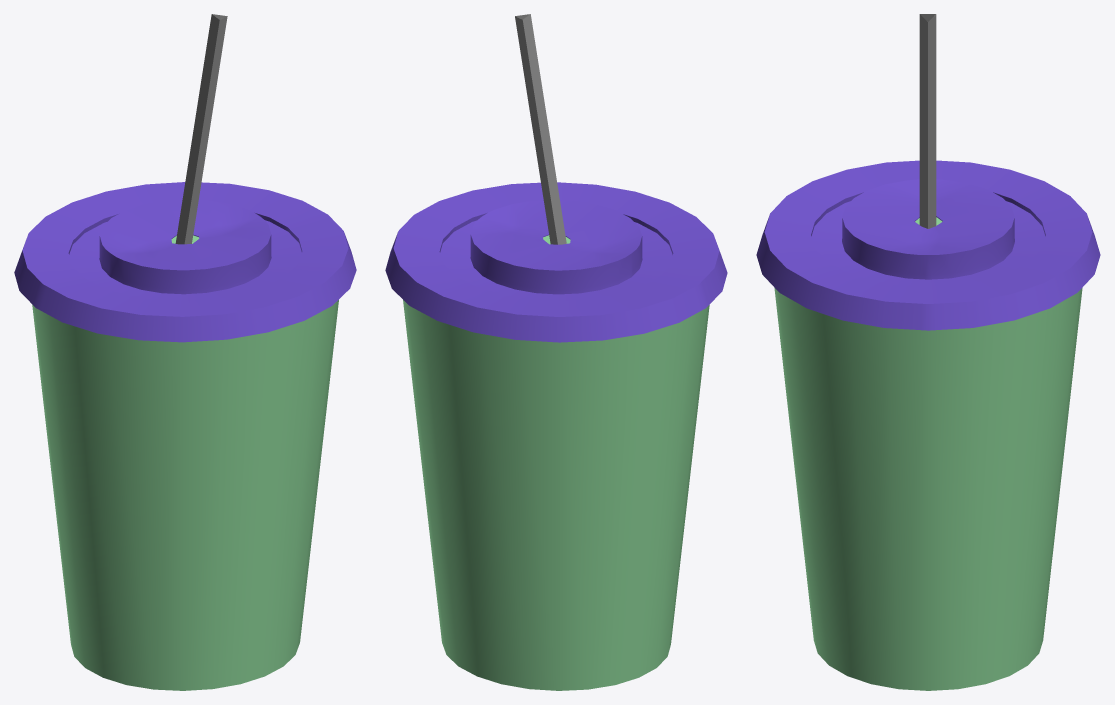
Rendered from SM_Cup_Plastic.fbx.
3 views of the same model, side by side, from view 1: azimuth 30°, elevation 25°; view 2: azimuth 150°, elevation 25°; view 3: azimuth 270°, elevation 25° (orthographic). The views are drawn at different scales.
Parts seen in each view (by area): view 1: SM_Cup_Plastic; view 2: SM_Cup_Plastic; view 3: SM_Cup_Plastic.
Boxes of the visible parts, bbox=[...] form: SM_Cup_Plastic: bbox=[14, 14, 356, 690]; SM_Cup_Plastic: bbox=[385, 14, 727, 690]; SM_Cup_Plastic: bbox=[756, 14, 1100, 690].
Bounding box in the file's own units: 11.16 × 22.07 × 10.73.
